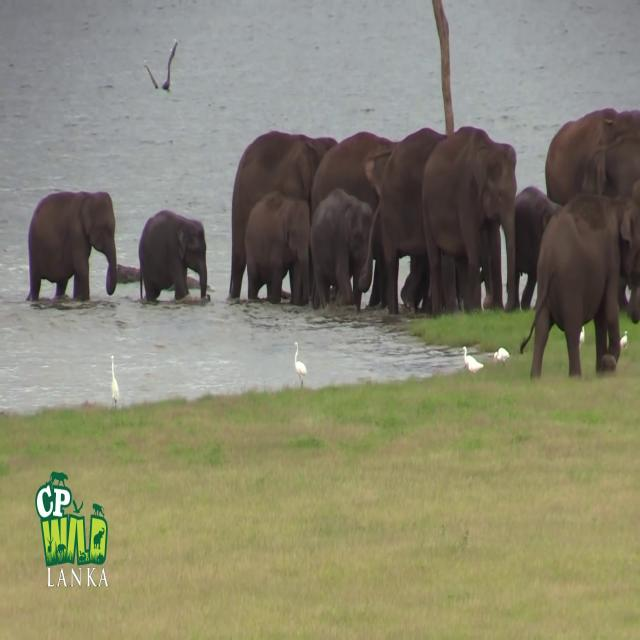Elephant: (519, 192, 640, 380), (228, 129, 338, 303), (421, 125, 517, 316), (25, 189, 117, 302), (309, 188, 374, 312), (244, 191, 310, 305), (138, 208, 208, 302)
